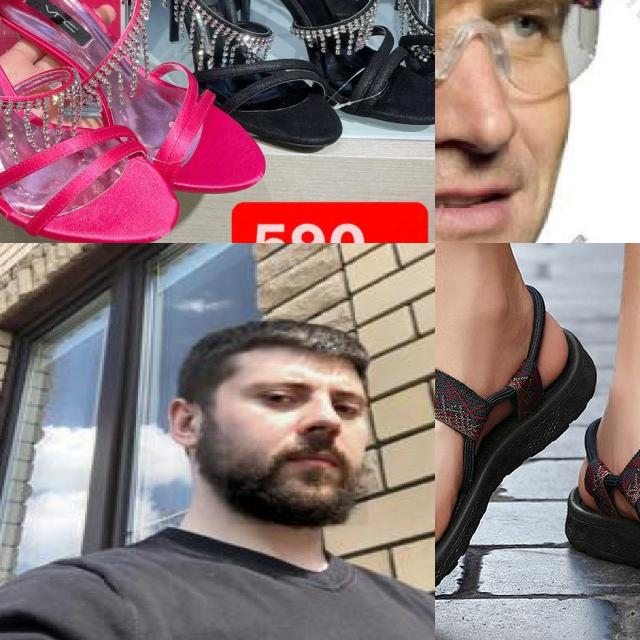No_Ear-Protection: (162, 395, 211, 456)
No_Glasses: (231, 370, 376, 436)
Sandals: (0, 0, 281, 243), (435, 260, 597, 624), (129, 0, 435, 167), (566, 333, 640, 617)
face_nomask: (435, 0, 571, 243), (227, 366, 370, 527)
glasses: (435, 0, 604, 106)
head_nohelmet: (219, 316, 380, 383)
